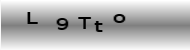9: (54, 16, 69, 30)
L: (26, 10, 39, 25)
T: (77, 16, 92, 30)
o: (112, 13, 126, 24)
t: (93, 20, 104, 32)
